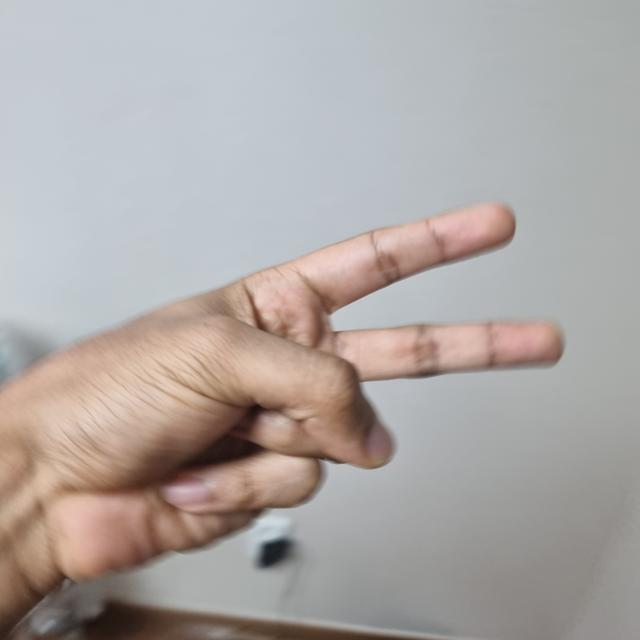Scissors: (0, 201, 567, 638)
